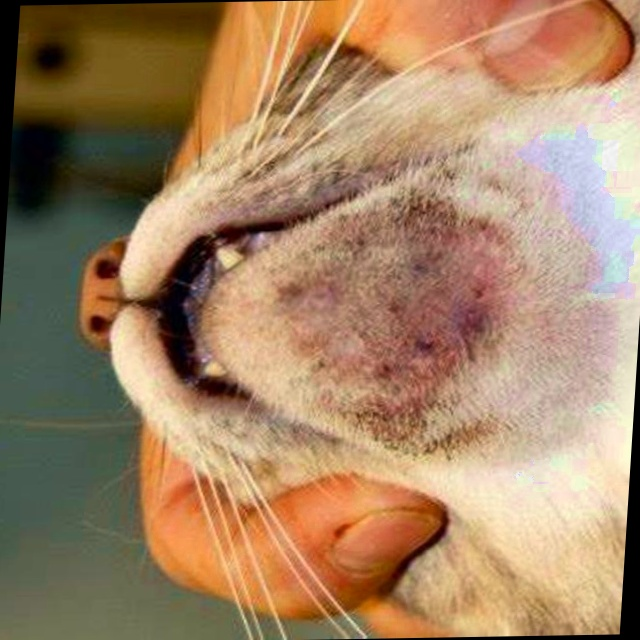acne: (271, 184, 516, 442)
